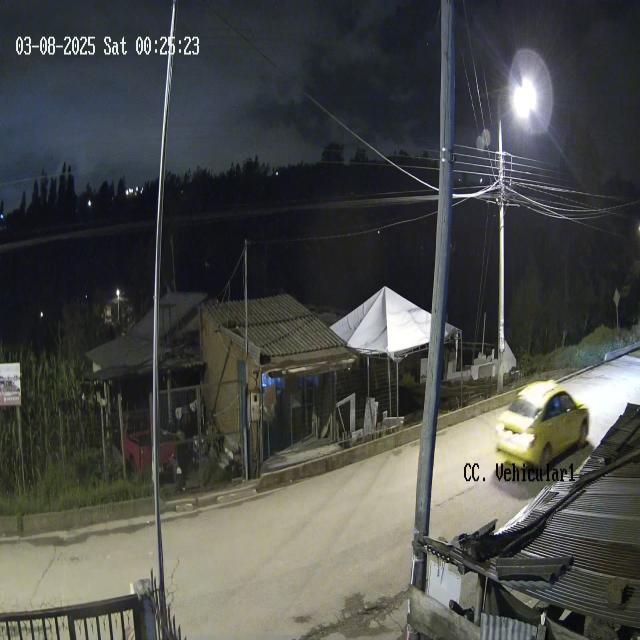SED: (492, 379, 591, 475)
